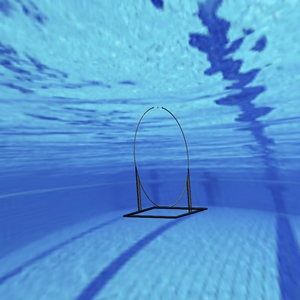circle: (122, 104, 205, 219)
